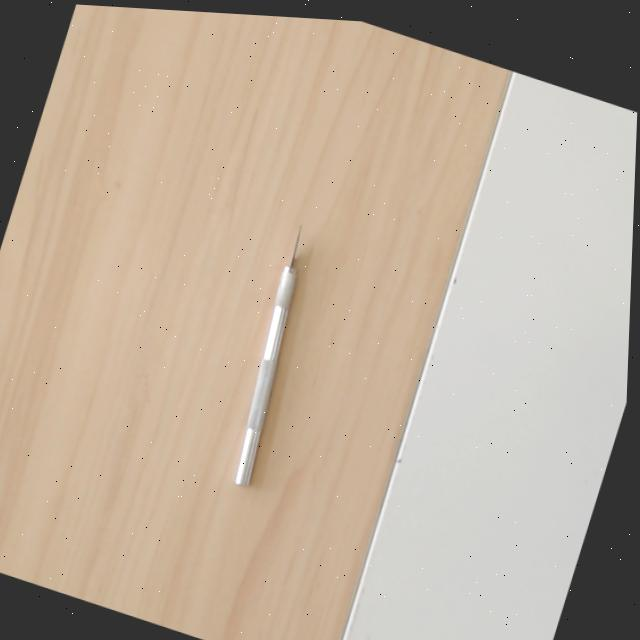Cutter-Kecil: (231, 223, 306, 487)
